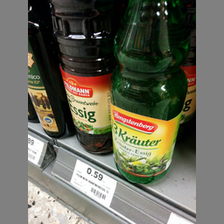vinegar: (112, 1, 188, 185), (51, 1, 115, 156), (27, 6, 73, 139)
